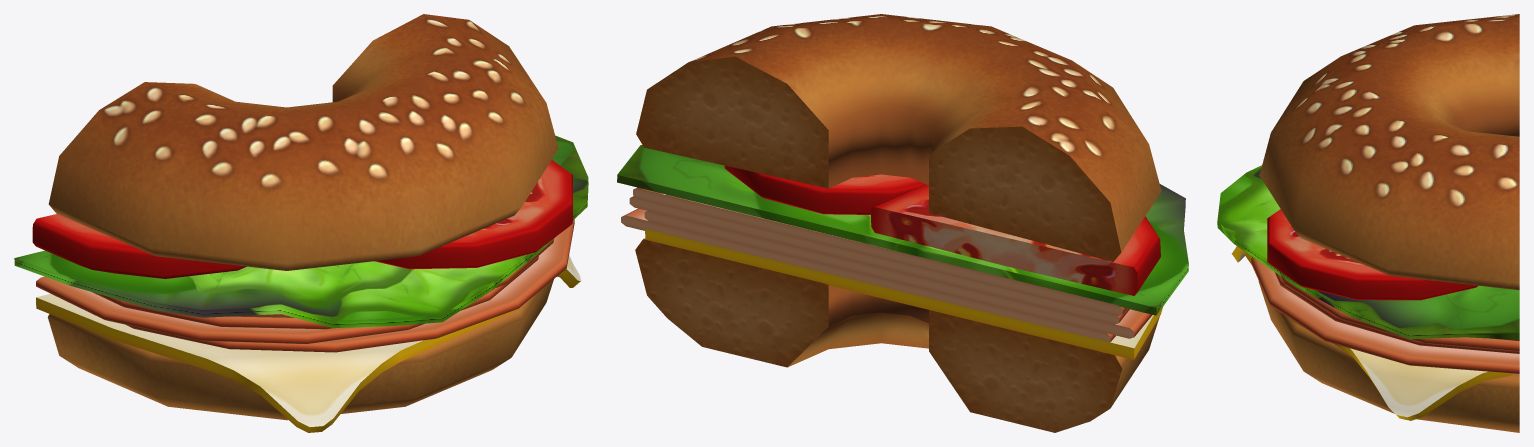
File: Bagel_Sandwich_Half_02.fbx
3 renders of one model, left to right at view 1: azimuth 30°, elevation 25°; view 2: azimuth 150°, elevation 25°; view 3: azimuth 270°, elevation 25°, orthographic. The views are drawn at different scales.
Parts seen in each view (by area): view 1: Bagel_Sandwich_Half_02; view 2: Bagel_Sandwich_Half_02; view 3: Bagel_Sandwich_Half_02.
Boxes of the visible parts, left/top/right/bottom form: Bagel_Sandwich_Half_02: left=14, top=14, right=588, bottom=432; Bagel_Sandwich_Half_02: left=617, top=14, right=1188, bottom=432; Bagel_Sandwich_Half_02: left=1217, top=14, right=1519, bottom=432.
Size of the model in its own units: 54.79 by 28.61 by 28.83.
